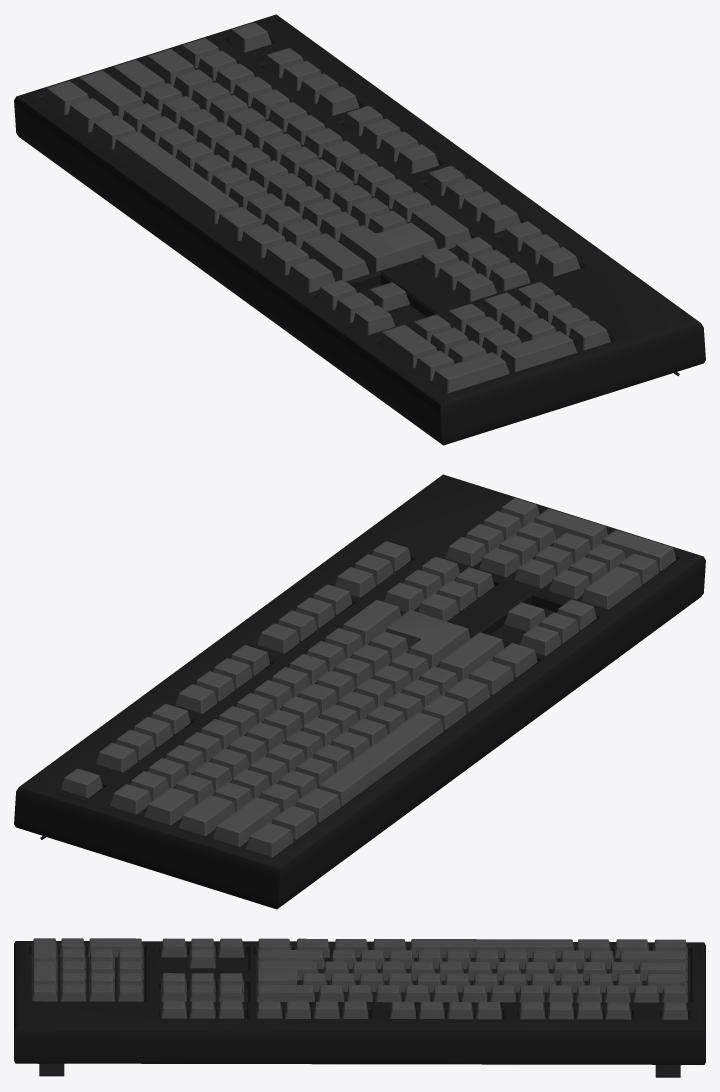
File: computer-keyboard.glb
The picture shows the model from 3 angles, top to bottom: view 1: azimuth 30°, elevation 25°; view 2: azimuth 150°, elevation 25°; view 3: azimuth 270°, elevation 25°; orthographic projection. The views are drawn at different scales.
Parts seen in each view (by area): view 1: Object_40; view 2: Object_40; view 3: Object_40.
Boxes of the visible parts, x1,y1,x2,y2 form: Object_40: (14, 14, 705, 445); Object_40: (14, 474, 705, 909); Object_40: (14, 938, 705, 1077).
Bounding box in the file's own units: 0.2811 × 0.0737 × 0.78.
Materials: 1 (1 with a texture image).
